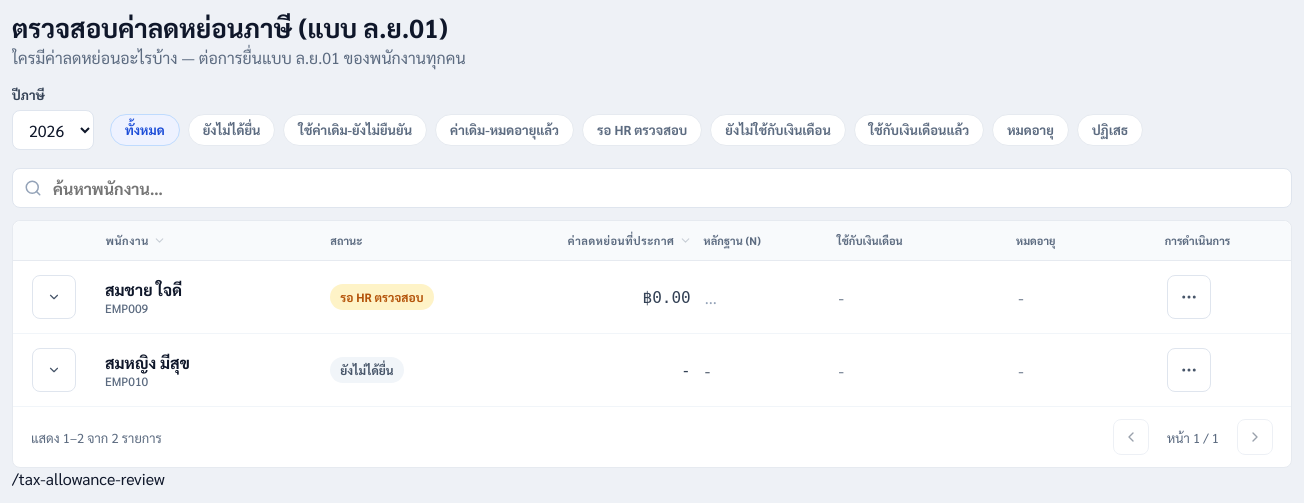
Test: TaxAllowanceReviewPage › URL state › writes the status filter to the URL
Expected: the text "สมชาย ใจดี" is shown, x1=105 y1=279 x2=182 y2=300
Click the button "รอ HR ตรวจสอบ". click: click(642, 130)
box: x1=582 y1=114 x2=702 y2=146
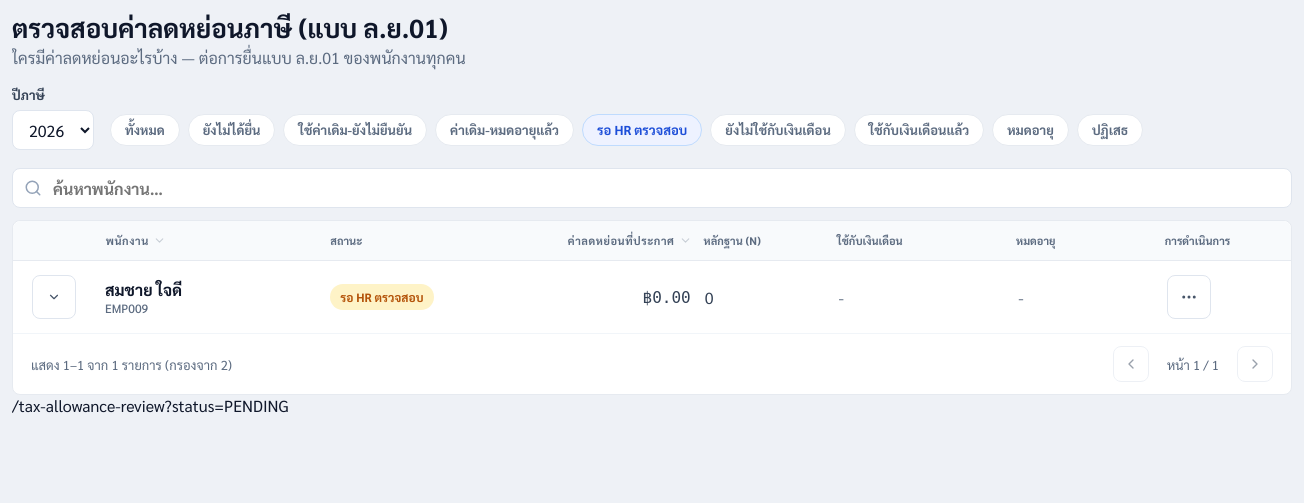
Result: the text with test id "location" shows "status=PENDING" at x1=12 y1=395 x2=289 y2=416
